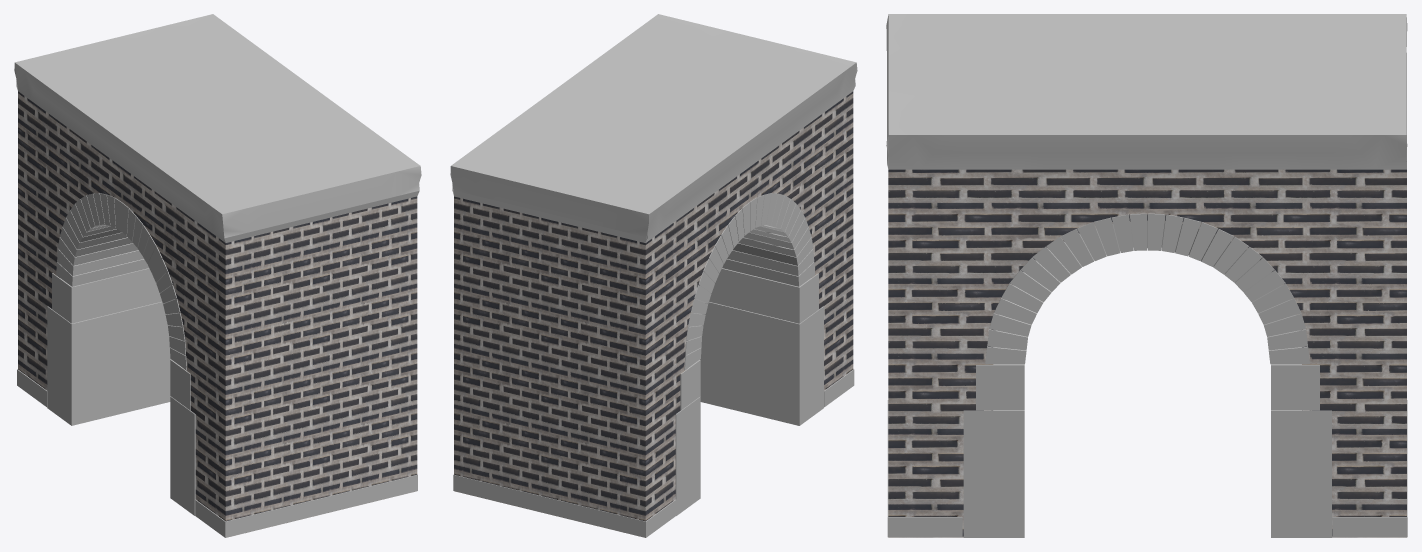
Rendered from SM_D_Arched_1.fbx.
The picture shows the model from 3 angles, left to right: view 1: azimuth 30°, elevation 25°; view 2: azimuth 150°, elevation 25°; view 3: azimuth 270°, elevation 25°; orthographic projection. The views are drawn at different scales.
Visible parts, largest first — view 1: SM_D_Arched_1; view 2: SM_D_Arched_1; view 3: SM_D_Arched_1.
Boxes of the visible parts, x1=… form: SM_D_Arched_1: x1=14, y1=14, x2=421, y2=537; SM_D_Arched_1: x1=450, y1=14, x2=857, y2=537; SM_D_Arched_1: x1=886, y1=14, x2=1407, y2=537.
Bounding box in the file's own units: 188 × 342 × 293.
